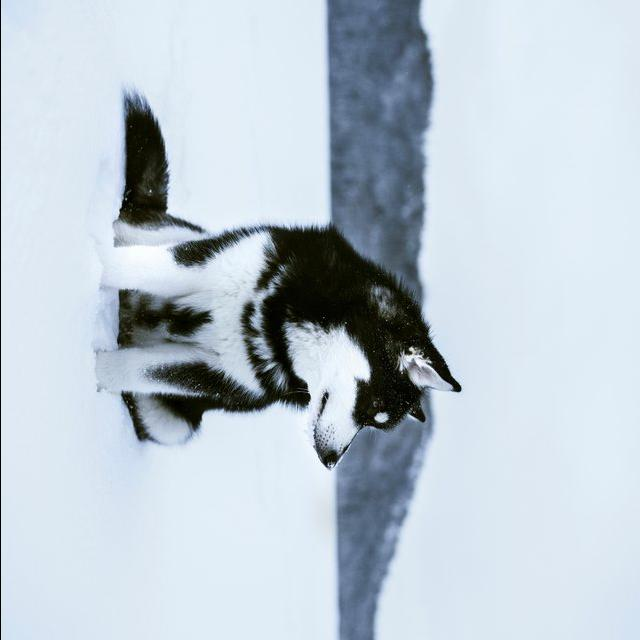husky: (93, 90, 463, 471)
